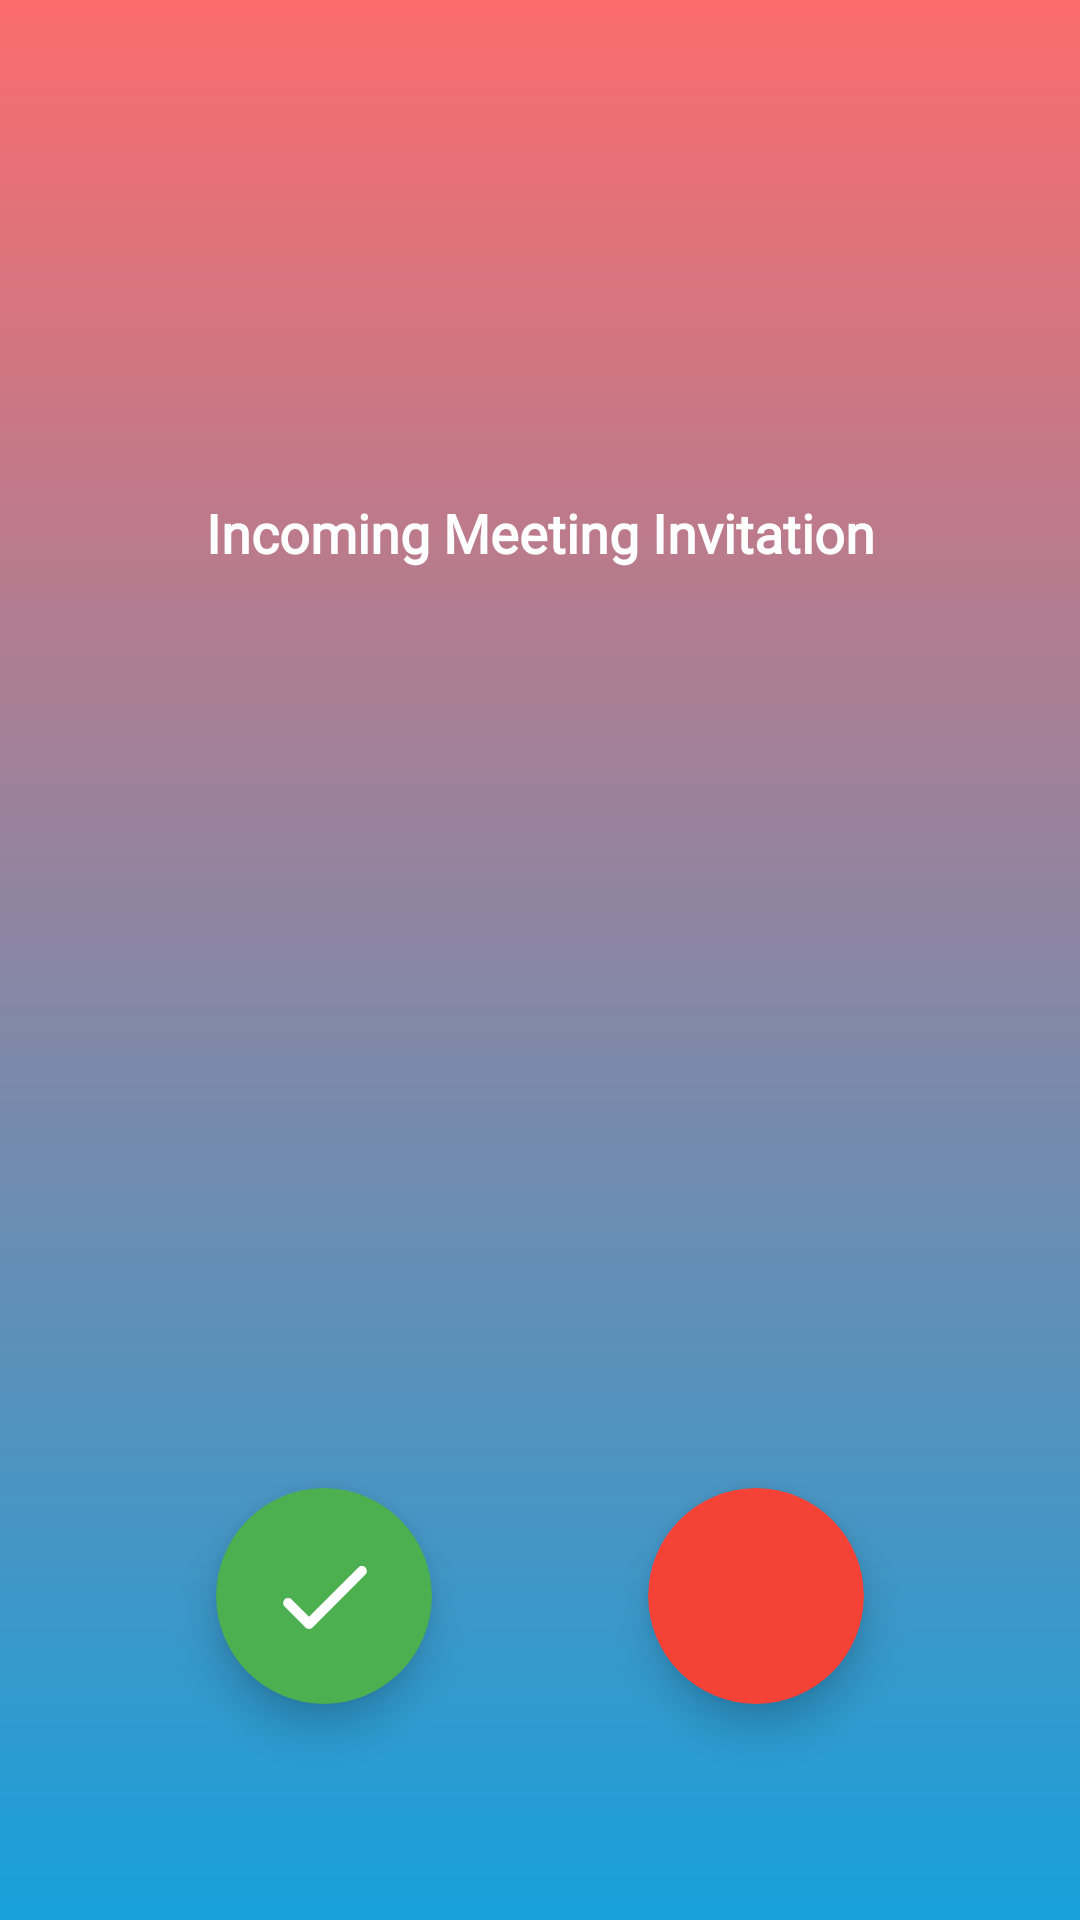

Where icons sit on this 1080px×1920px app screen, as (x1, y1, x2, y2):
accept: (283, 1566, 367, 1629)
